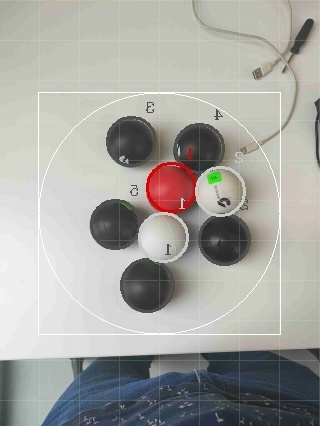Pelota blanca: (191, 0, 294, 78), (119, 257, 177, 312), (90, 198, 143, 251), (138, 212, 191, 264), (197, 164, 249, 216)
Pelota negra: (42, 353, 320, 425), (106, 113, 159, 168), (197, 214, 252, 267), (90, 198, 143, 251), (173, 121, 225, 168)
Pelota roja: (146, 158, 199, 214)
